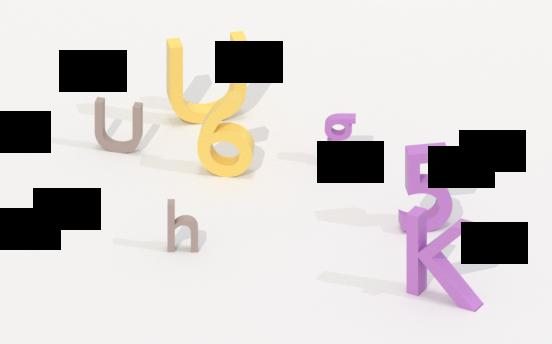5: (398, 141, 453, 234)
6: (199, 90, 256, 179)
g: (322, 111, 357, 169)
h: (167, 196, 200, 256)
k: (405, 202, 486, 313)
u: (164, 29, 249, 127), (94, 95, 144, 156)
